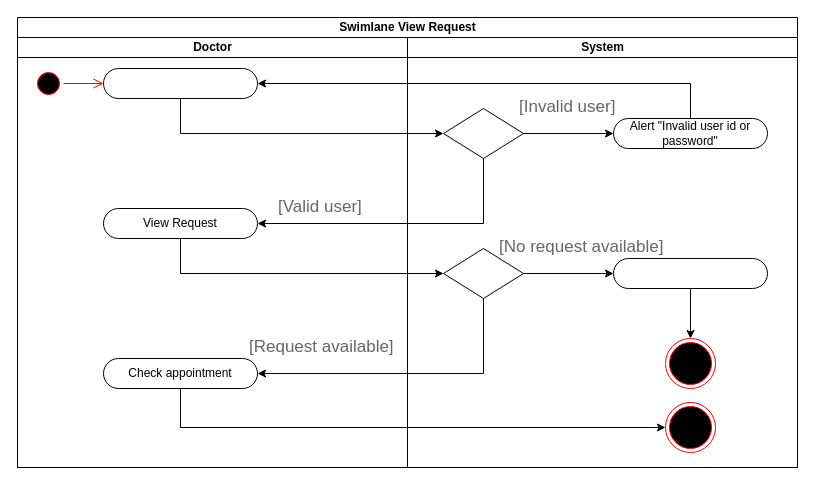
The diagram is 815 pixels wide and 485 high, and some of its shapes have lost their labels. The shapes that lost their labels are listed below. From the top down, each one's centre as x and y in pixels, then its label:
pixel 180 83: Login
pixel 690 273: Alert "No Request available"
